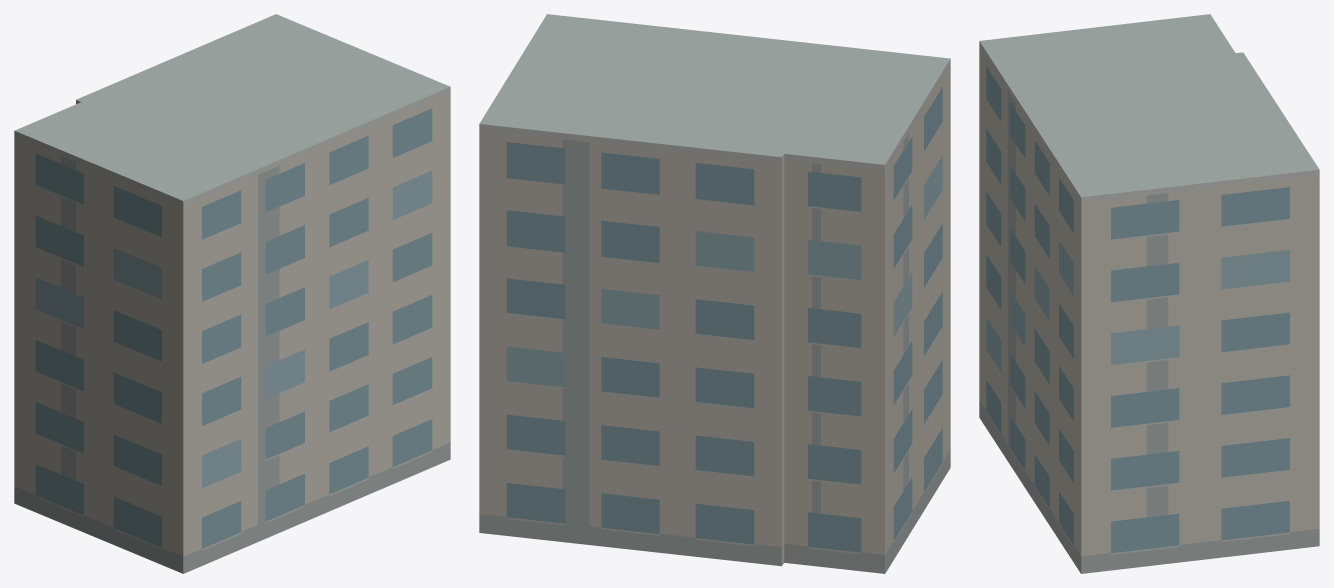
File: survey-upis-32589143.glb
3 views of the same model, side by side, from view 1: azimuth 30°, elevation 25°; view 2: azimuth 150°, elevation 25°; view 3: azimuth 270°, elevation 25° (orthographic). The views are drawn at different scales.
Visible parts, largest first — view 1: survey-upis-32589143.tmp; view 2: survey-upis-32589143.tmp; view 3: survey-upis-32589143.tmp.
Boxes of the visible parts, left/top/right/bottom form: survey-upis-32589143.tmp: left=14, top=14, right=450, bottom=573; survey-upis-32589143.tmp: left=479, top=14, right=950, bottom=573; survey-upis-32589143.tmp: left=979, top=14, right=1319, bottom=573.
Size of the model in its own units: 16.72 by 16 by 13.12.
